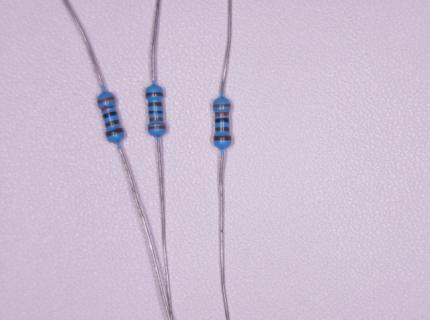Black band: (103, 110, 118, 119), (149, 110, 163, 115), (215, 118, 229, 123)
Brown band: (105, 127, 124, 137), (105, 120, 121, 128), (214, 135, 231, 141), (145, 92, 163, 97), (148, 102, 163, 107), (215, 127, 229, 132)
Orange band: (97, 96, 116, 104), (101, 104, 116, 112), (148, 125, 166, 130), (214, 111, 230, 116), (149, 117, 163, 122), (213, 104, 231, 107)
